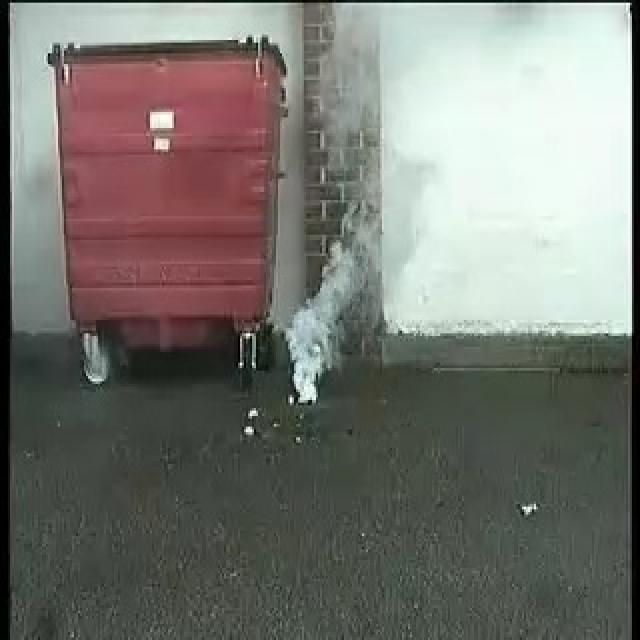smoke: (290, 30, 388, 408)
